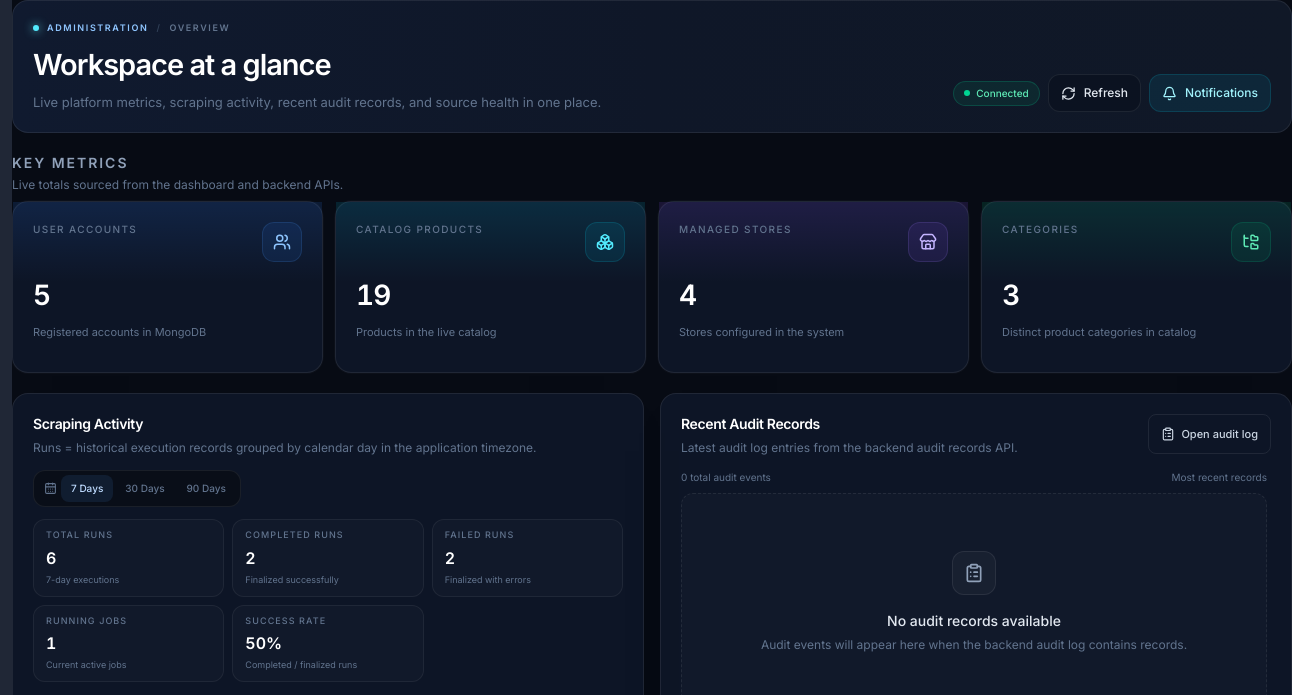
Admin Overview › reconciles one isolated scraping dataset across 7, 30, and 90 day ranges
Expected: the text "6" is shown, [46,548,56,568]
Expected: the text "2" below "Failed Runs" is shown, [445,548,455,568]
Click the button "30 Days" at (145, 488), box [115,475,175,502]
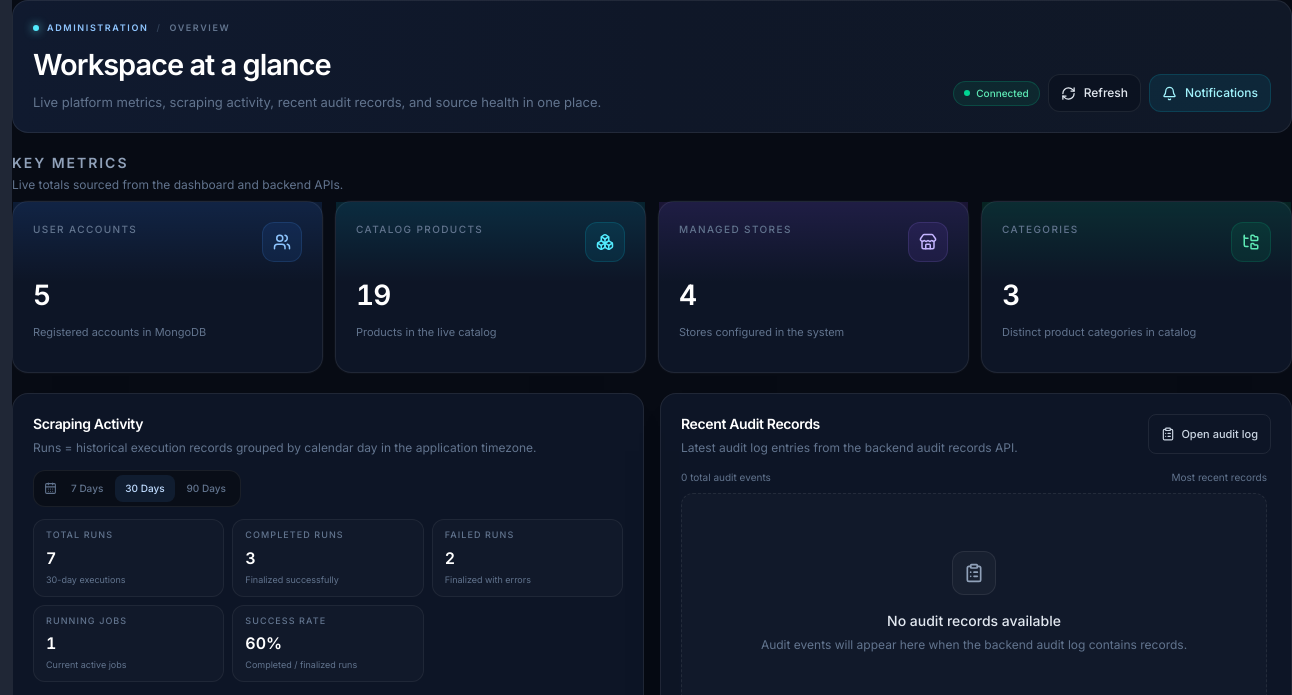
Expected: the text "2" is shown, [445,548,455,568]
Now the text "7" is shown, box [46,548,56,568]
Now the text "3" below "Completed Runs" is shown, box [245,548,256,568]
Click the button "90 Days" at (206, 488), box [176,475,236,502]
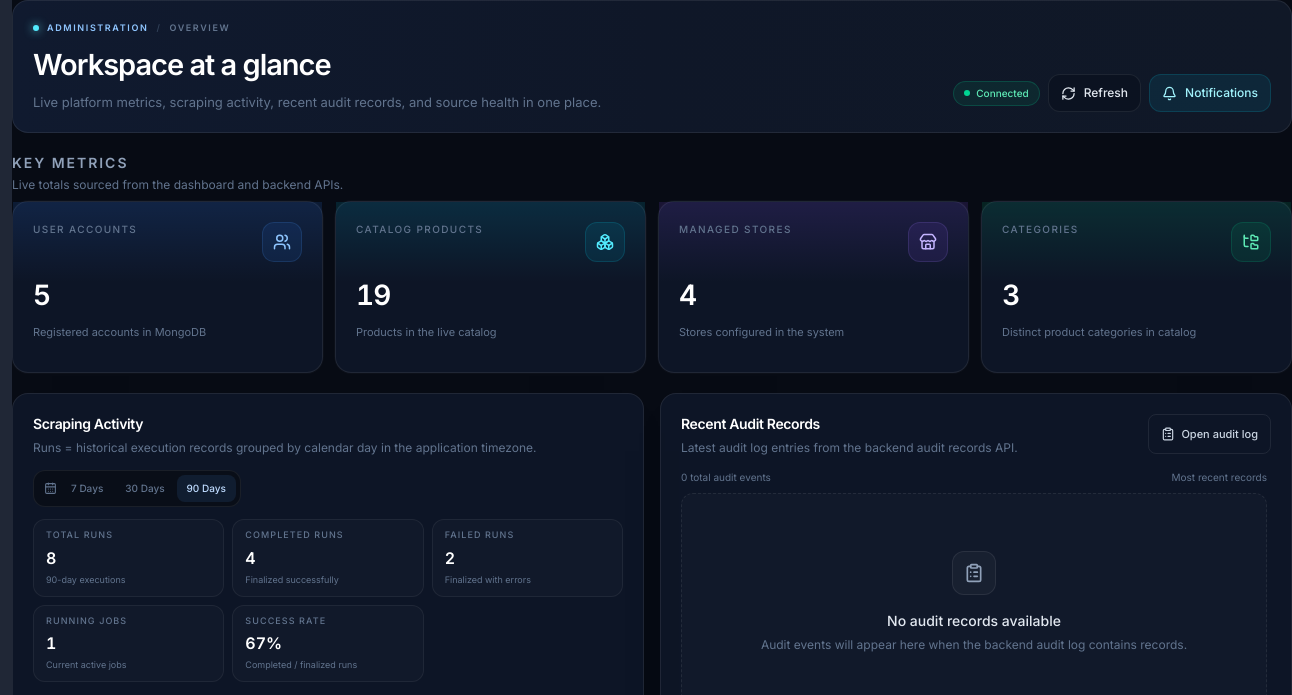
Now the text "8" is shown, box [46,548,56,568]
Now the text "4" below "Completed Runs" is shown, box [245,548,256,568]
Now the text "67%" is shown, box [245,633,282,653]
